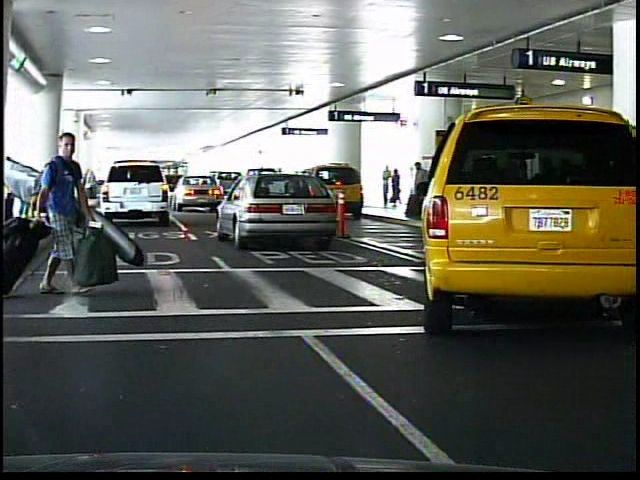person: (37, 123, 98, 308), (379, 165, 391, 208), (411, 160, 427, 189), (390, 166, 401, 207)
